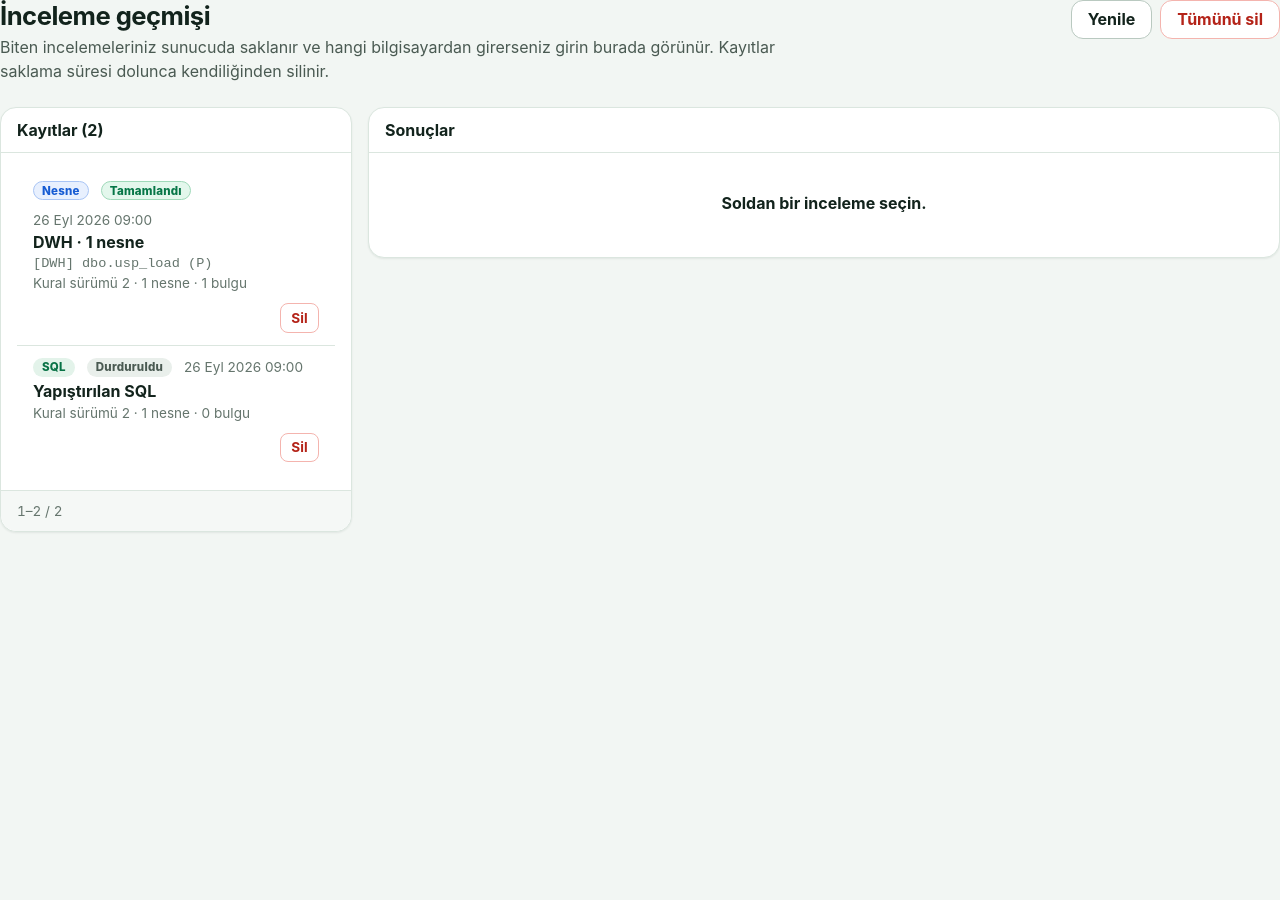
Test: review history page › shows why a running run cannot be deleted
Click the button with aria-label "DWH · 1 nesne incelemesini sil" at (299, 318), box [280,303,319,333]
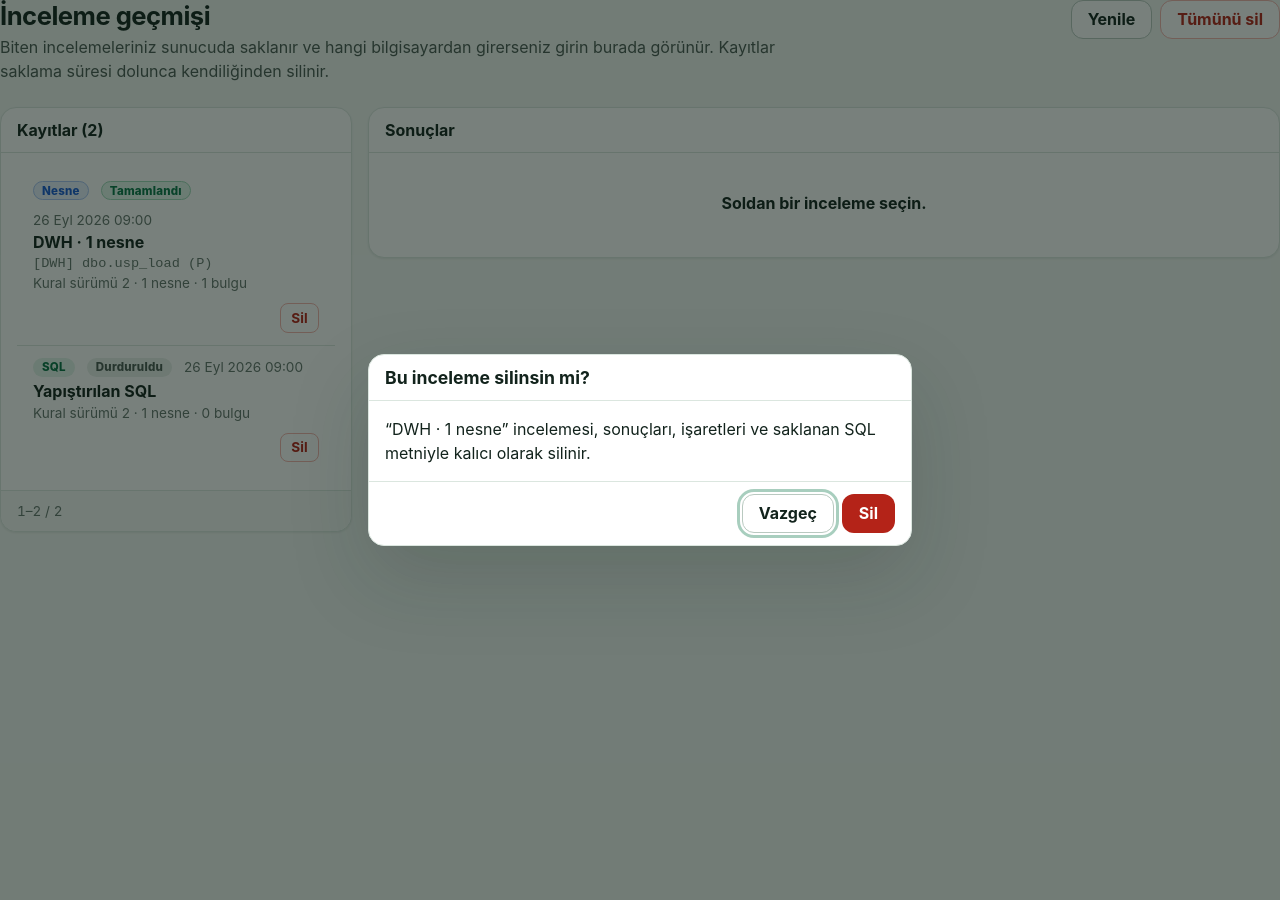
Click the button "Sil" at (868, 514), box [842,494,895,533]
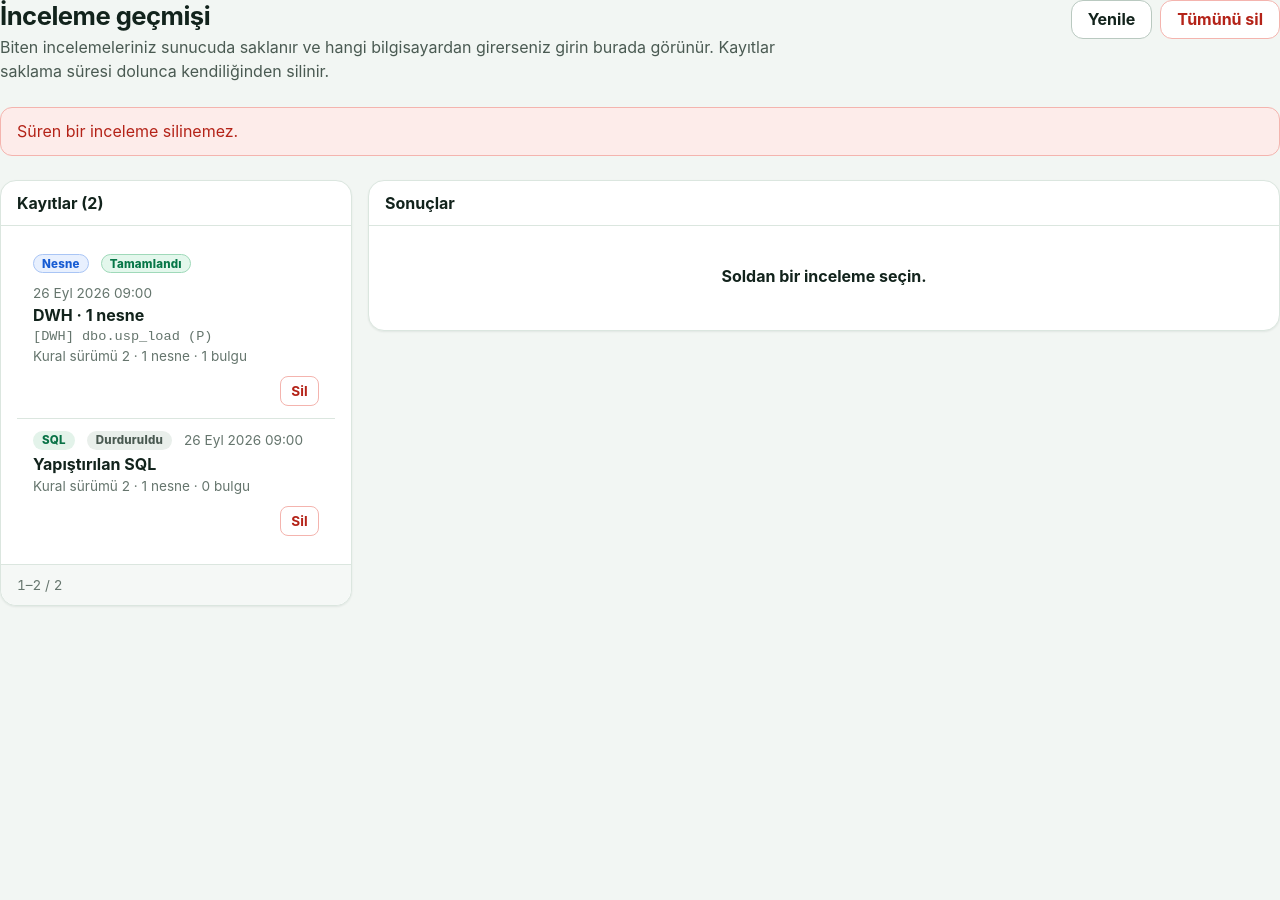
Result: the message reads "Süren bir inceleme silinemez." at [17,121,238,141]
